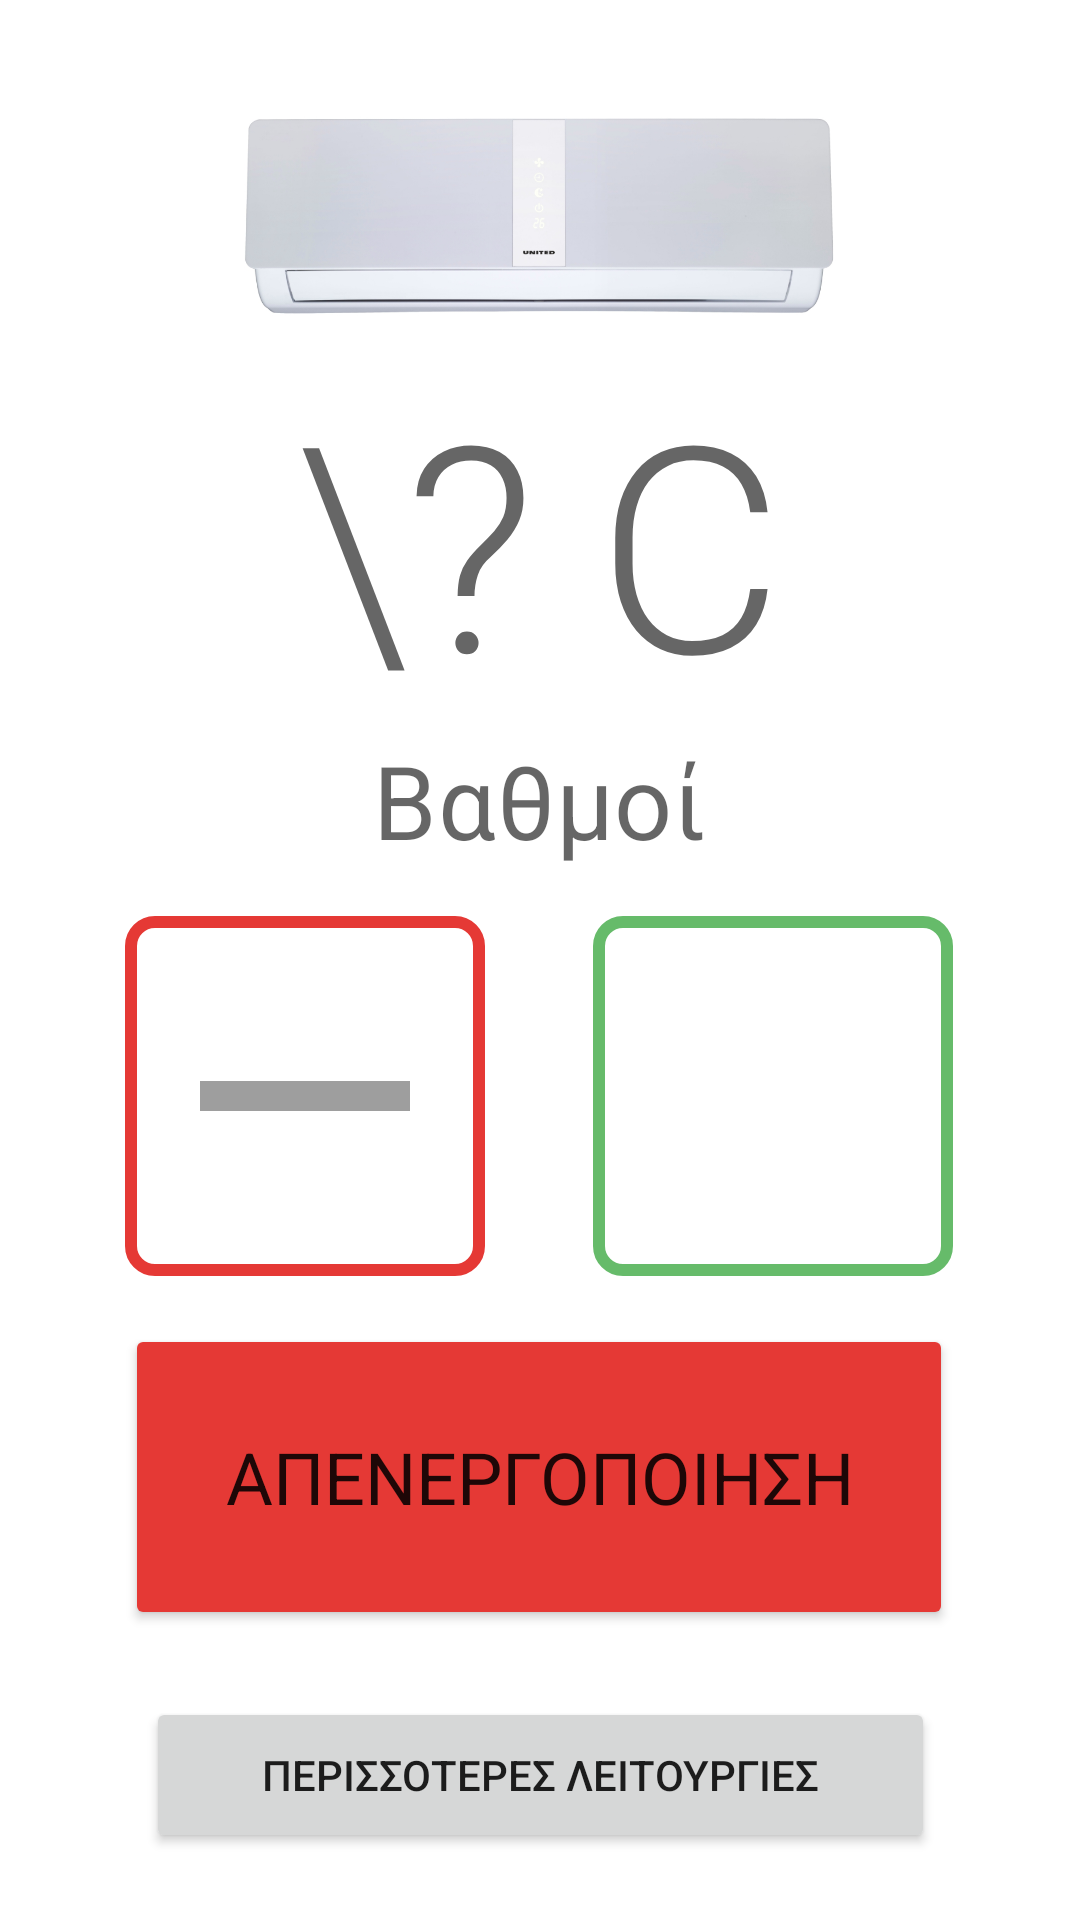

Icon click points for this 1080px x 1920px phone screenshot, format point (x, y):
remove: point (305, 1096)
